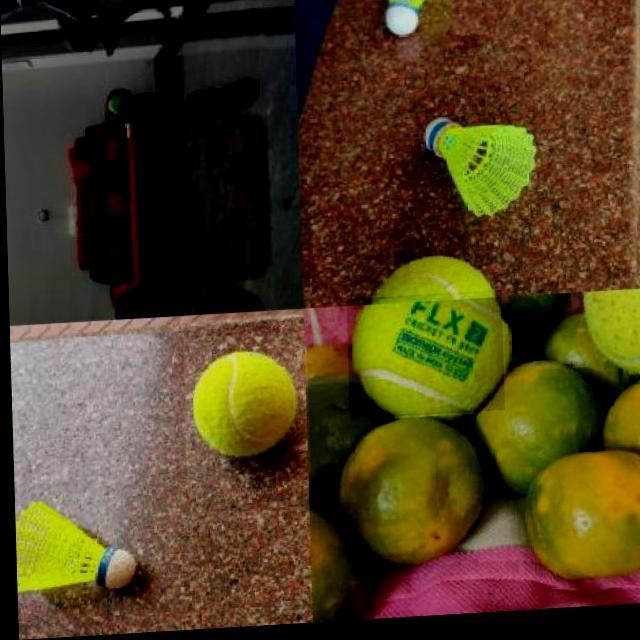-: (181, 334, 308, 501), (344, 296, 502, 423)
